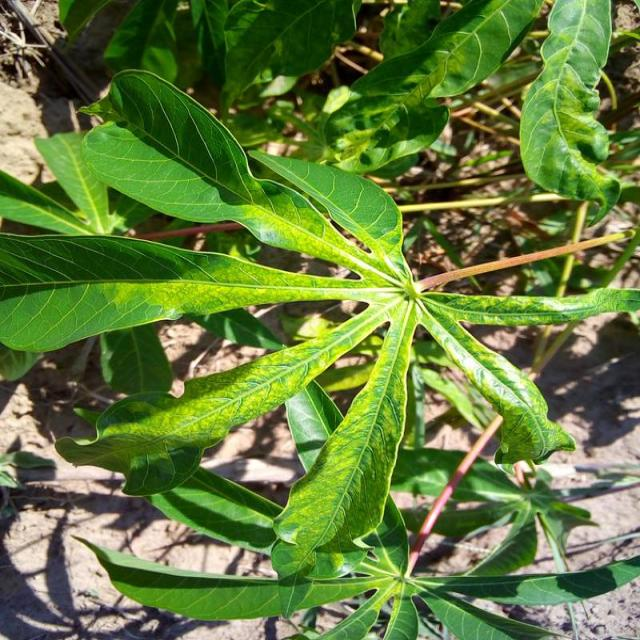cassava leaf: (1, 66, 638, 618)
